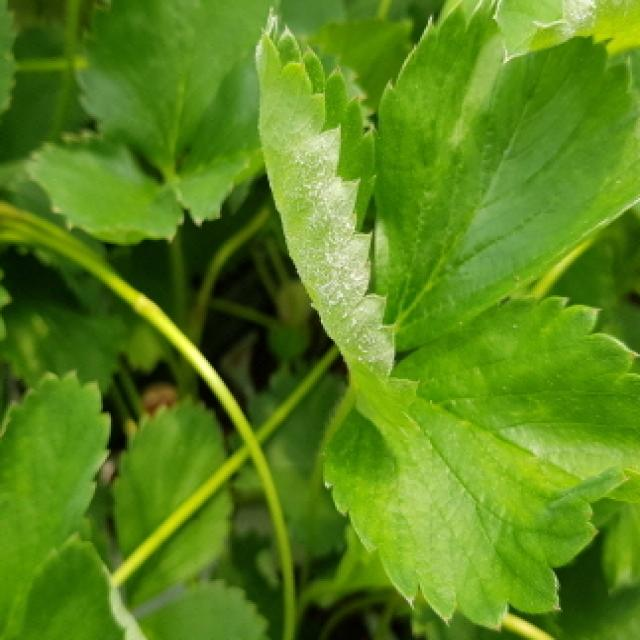Powdery Mildew Leaf: (253, 11, 424, 440), (0, 529, 151, 640), (491, 0, 640, 67)
